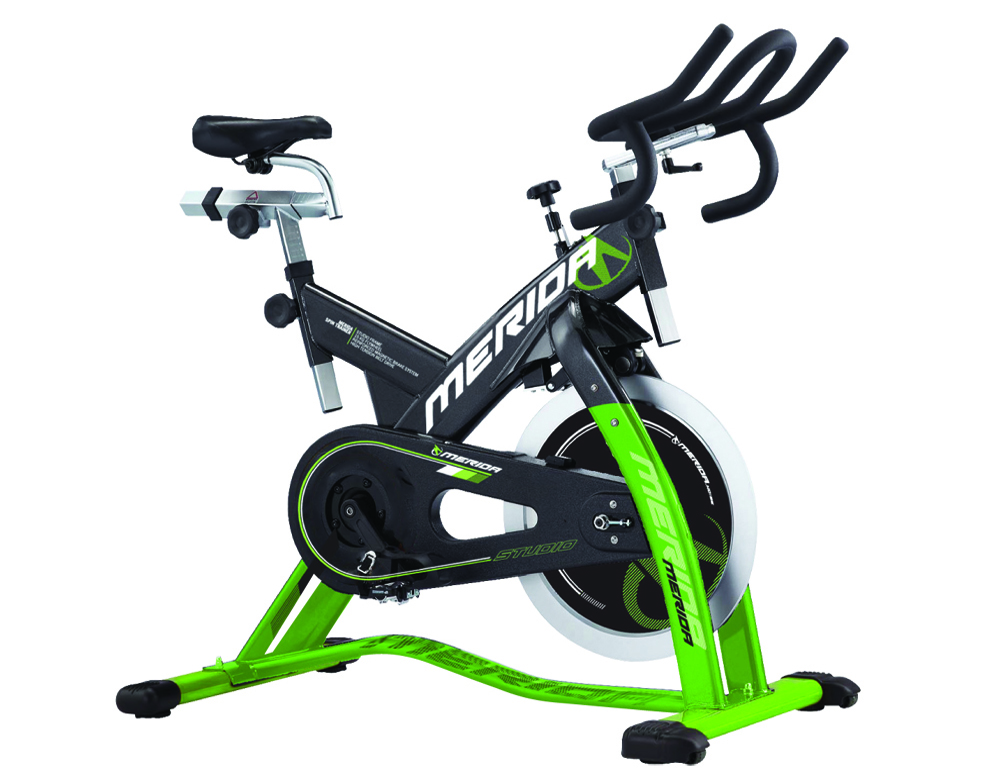gym_bike: (108, 17, 875, 774)
